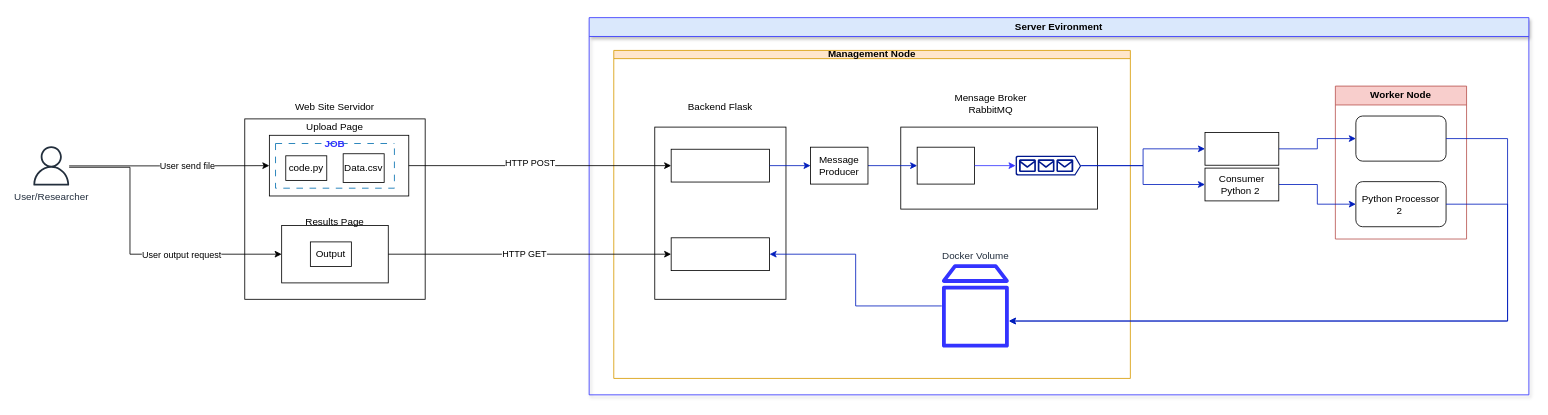
Image size: 1548x415. Some labels were removed from this diagram. The centre of each missing label's shape, as x and y in pixels:
"Consumer Python 1" goes at point (1241, 148).
"Direct Exchange" goes at point (945, 165).
"GET Output user Job" goes at point (720, 254).
"POST User File" goes at point (720, 165).
"Python Processor 1" goes at point (1400, 138).
"Python Queue" goes at point (1048, 165).
